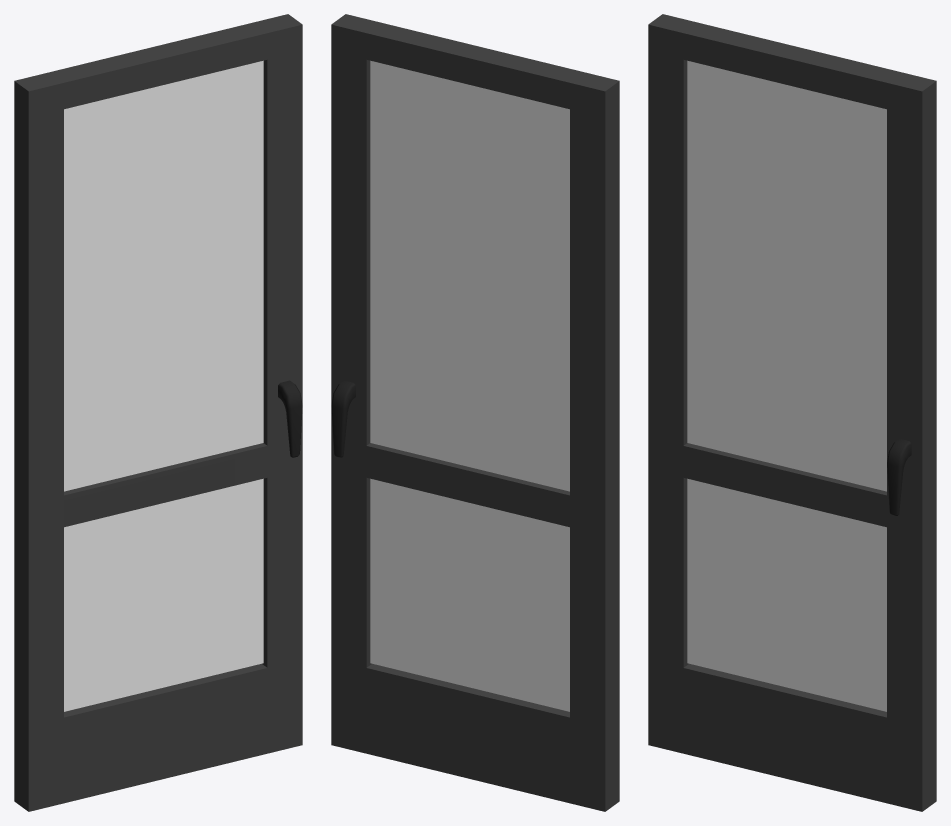
The model's file is wall_020.fbx.
The picture shows the model from 3 angles, left to right: view 1: azimuth 30°, elevation 25°; view 2: azimuth 150°, elevation 25°; view 3: azimuth 330°, elevation 25°; orthographic projection.
Visible parts, largest first — view 1: wall_020; view 2: wall_020; view 3: wall_020.
Part boxes in pixels (x1,y1,x2,y2): wall_020: [14, 14, 302, 811]; wall_020: [331, 14, 619, 811]; wall_020: [648, 14, 936, 811].
Bounding box in the file's own units: 95.15 × 22.69 × 239.
